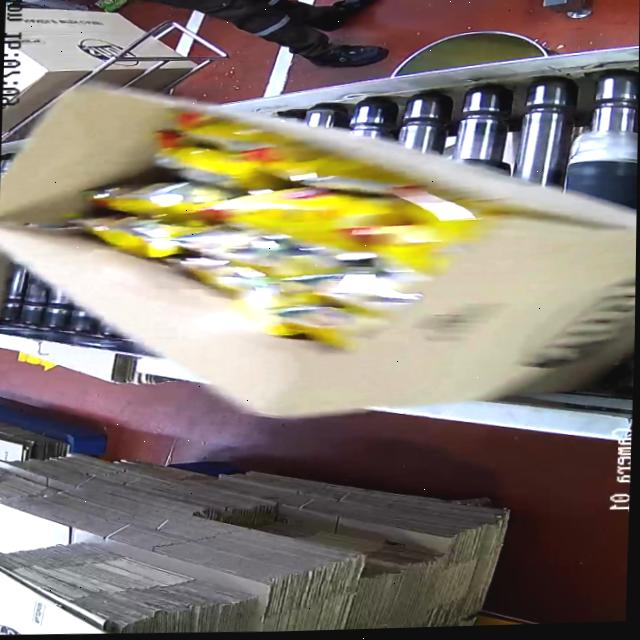SALTED: (75, 105, 420, 289)
